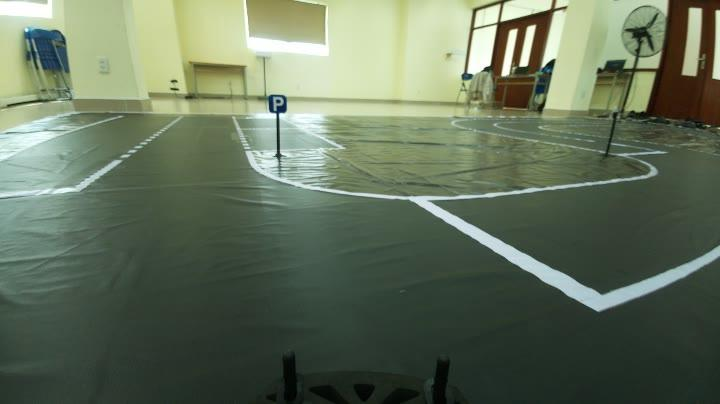parking: (262, 90, 293, 116)
